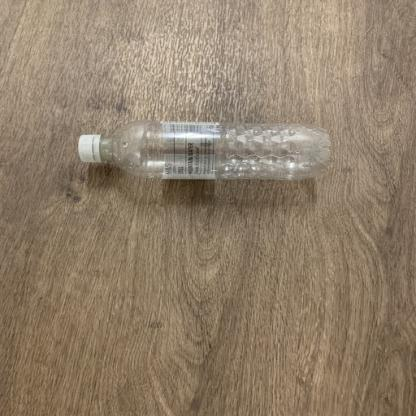trash: (73, 118, 330, 182)
